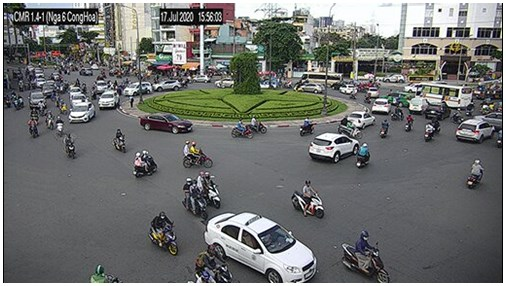xe_buyt: (415, 83, 473, 109), (299, 72, 344, 84)
xe_hoi: (204, 212, 318, 283), (309, 131, 359, 162), (139, 112, 192, 134), (455, 118, 493, 145), (69, 102, 94, 123), (474, 110, 502, 128), (348, 112, 375, 130), (97, 90, 120, 109), (122, 81, 152, 94), (154, 80, 183, 92), (410, 97, 430, 114), (373, 96, 389, 116), (29, 92, 47, 109), (296, 83, 325, 92), (214, 77, 235, 89), (338, 83, 356, 95), (401, 82, 422, 92), (69, 94, 88, 105), (383, 75, 406, 84), (91, 79, 106, 90), (78, 66, 94, 76), (191, 75, 209, 83), (32, 77, 46, 87), (365, 87, 378, 97), (66, 87, 83, 94)
xe_may: (341, 230, 391, 282), (291, 179, 323, 219), (149, 212, 177, 256), (182, 177, 206, 219), (196, 171, 221, 209), (182, 141, 214, 169), (134, 151, 157, 178), (228, 117, 256, 139), (466, 159, 484, 190), (355, 140, 372, 170), (246, 115, 268, 135), (337, 117, 359, 135), (64, 132, 77, 159), (298, 117, 317, 135), (422, 120, 436, 142), (27, 116, 39, 140), (403, 113, 414, 133), (378, 117, 389, 136), (391, 105, 404, 121), (431, 117, 441, 135), (46, 110, 55, 130), (57, 115, 65, 137), (453, 106, 463, 123), (11, 94, 20, 111), (30, 106, 39, 122), (16, 92, 24, 109), (4, 95, 12, 109), (439, 99, 449, 109)
